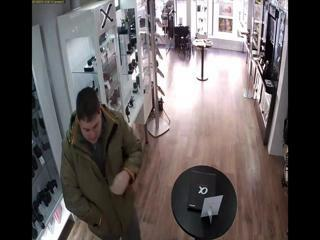Normal: (60, 87, 143, 240)
